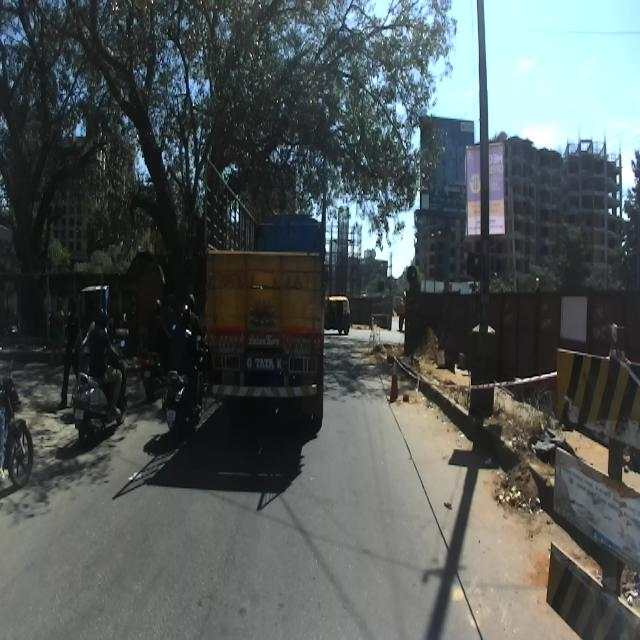motorcycle ahead at: (64, 367, 128, 442)
truck ahead at: (194, 159, 331, 434)
